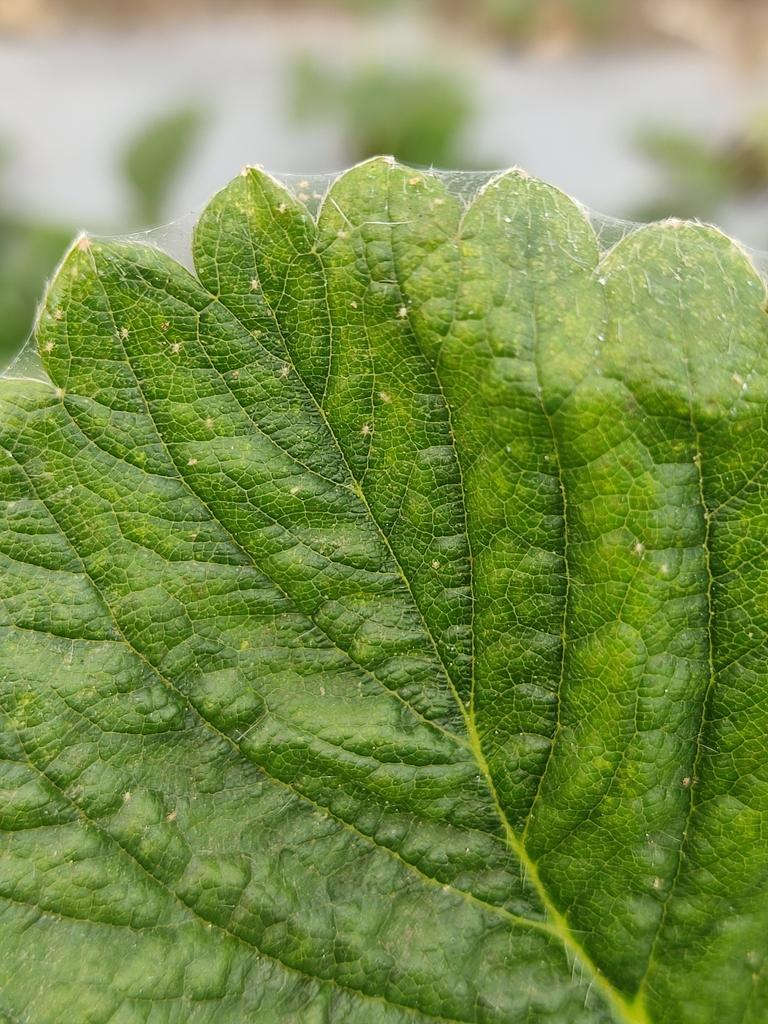tiny_pests: (404, 162, 450, 211), (291, 169, 330, 212), (353, 413, 382, 446), (35, 331, 58, 359), (244, 269, 269, 294), (114, 319, 135, 342)
